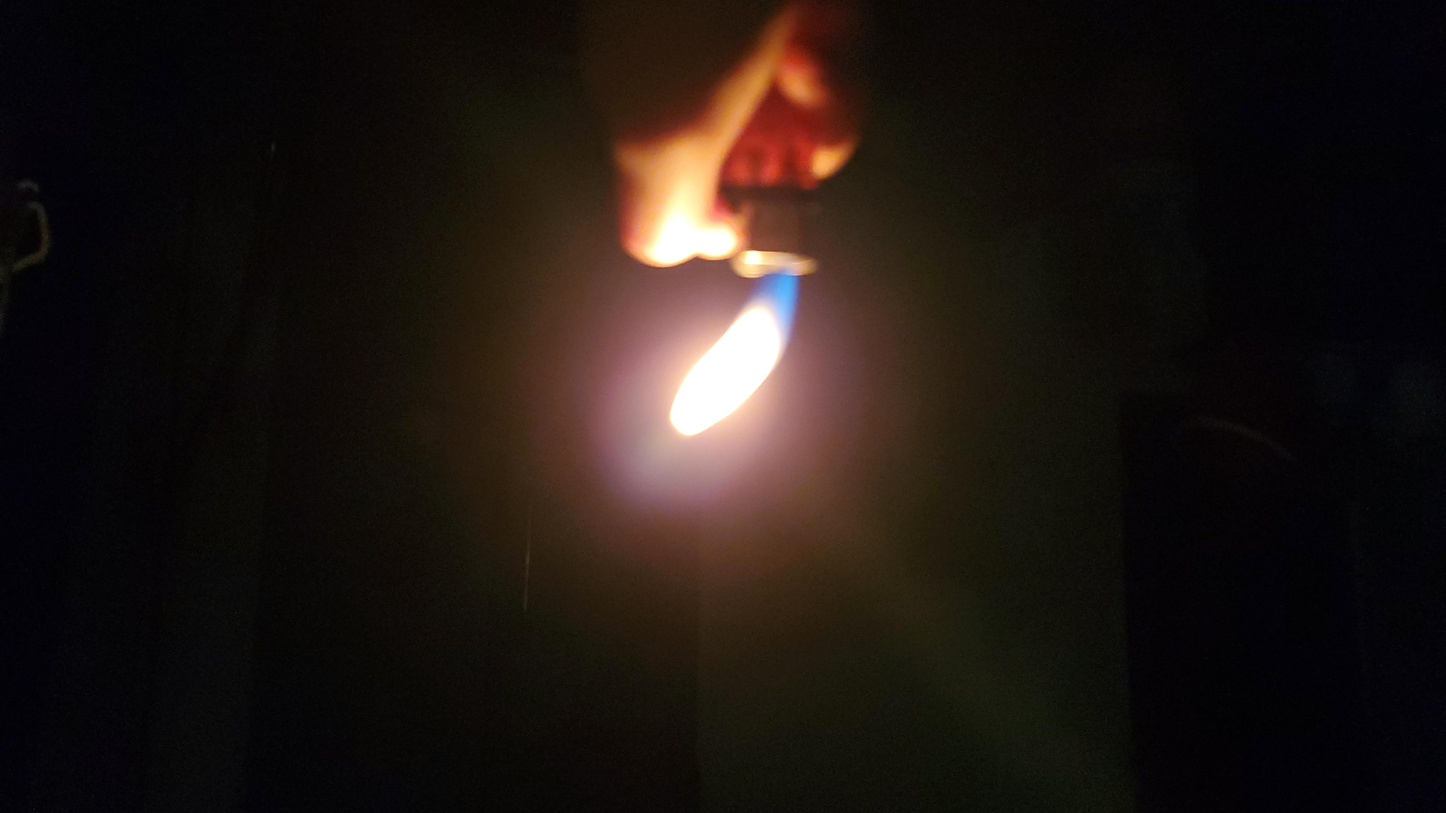fire: (646, 377, 786, 535)
